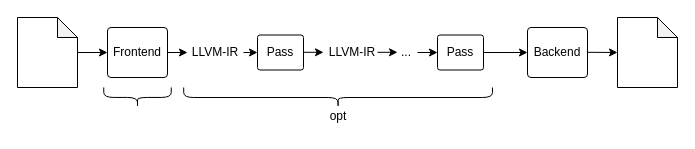
Some shapes in this 695 by 149 pixel diagram are drawn without their labels. Each missing label, with the centre of its shape:
"clang" goes at pixel 137 97.
"main.c" goes at pixel 47 52.
"main.exe" goes at pixel 647 52.
